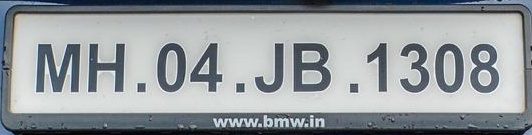character: (34, 40, 84, 93), (290, 39, 332, 94), (85, 39, 126, 94), (187, 40, 223, 95), (399, 40, 433, 95), (467, 40, 500, 96), (433, 40, 466, 95), (253, 41, 286, 95), (155, 41, 187, 94), (365, 42, 390, 94)
